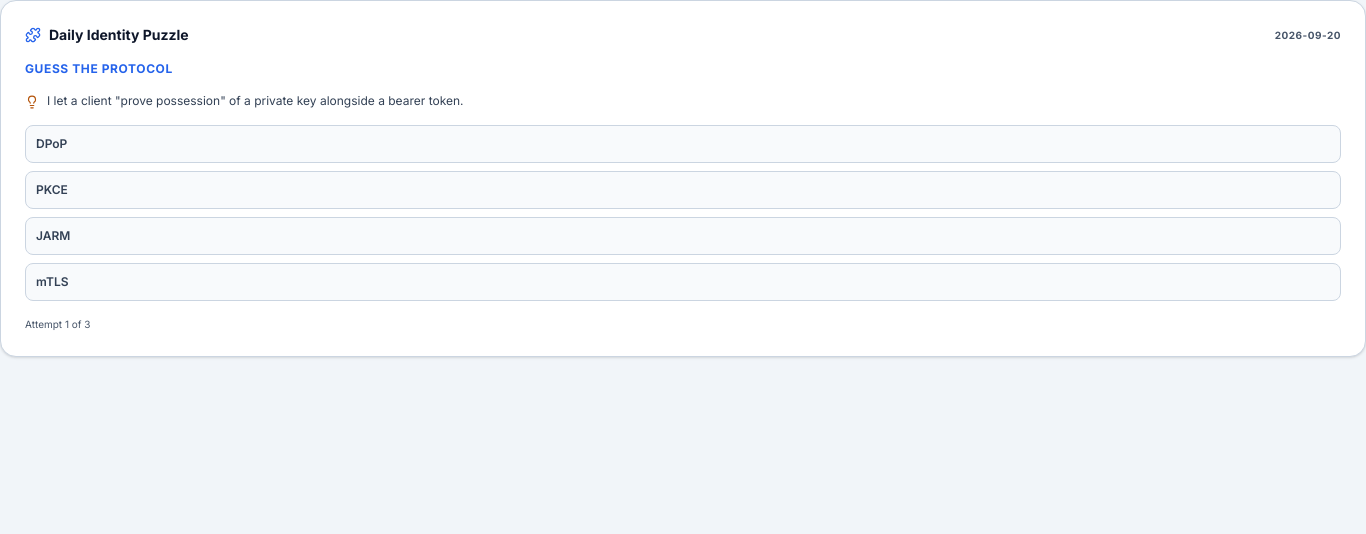
Scenario: DailyPuzzleWidget › clicking a wrong choice allows another attempt, and 3 wrong attempts ends the round
This screenshot has width=1366, height=534.
Step 1. Click the button "PKCE" → (52, 190), box [25,171,1341,209]
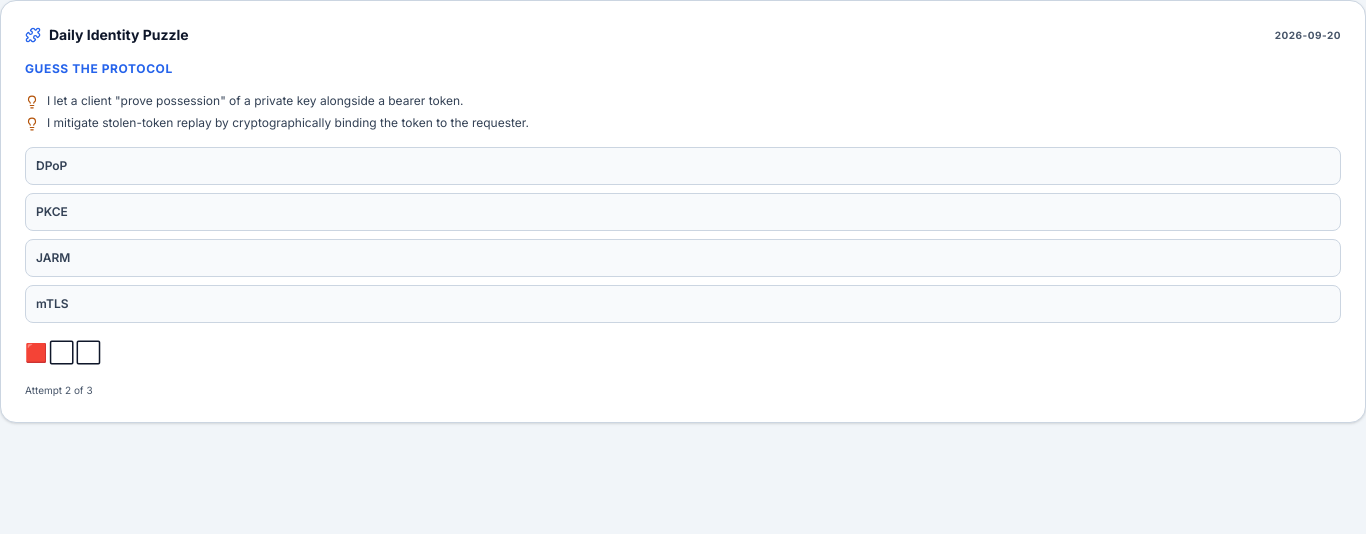
Now the text "Attempt 2 of 3" is shown, box [25,384,93,396]
Step 2. Click the button "PKCE" → (52, 212), box [25,193,1341,231]
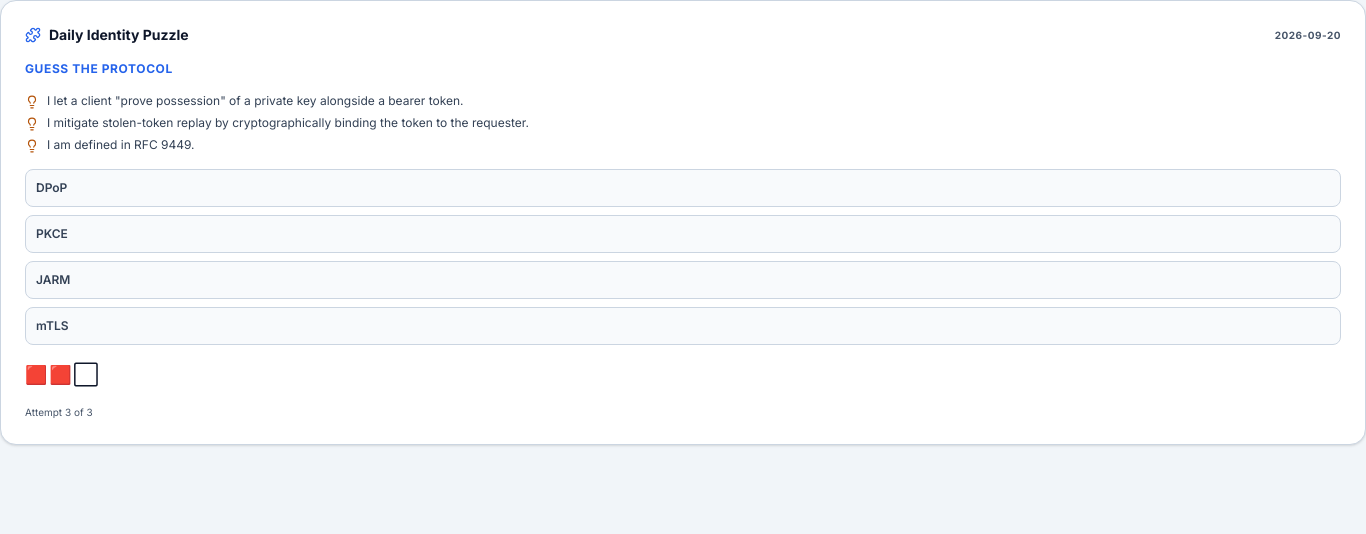
Now the text "Attempt 3 of 3" is shown, box [25,406,93,418]
Step 3. Click the button "PKCE" → (52, 234), box [25,215,1341,253]
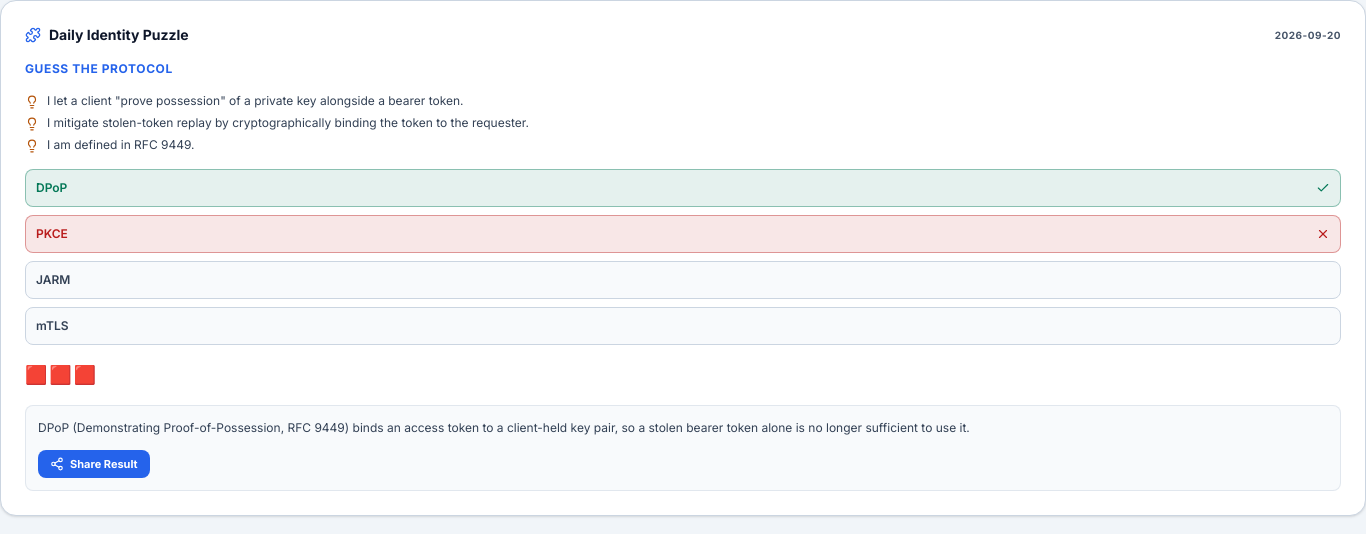
Now the text "DPoP (Demonstrating Proof-of-Possession, RFC 9449) binds an access token to a client-held key pair, so a stolen bearer t" is shown, box [38,420,970,435]
